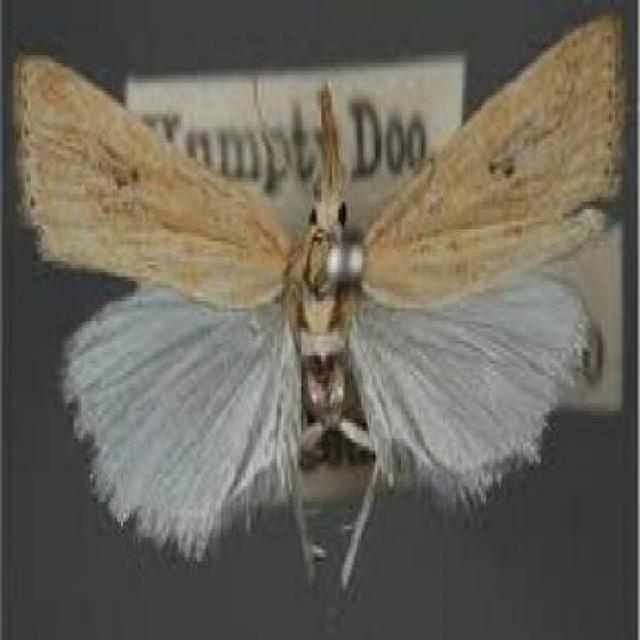stem-borer: (12, 5, 630, 594)
